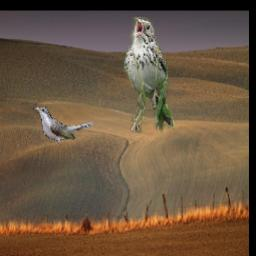Cuckoo: (33, 106, 93, 146)
Sparrow: (124, 17, 176, 133)
